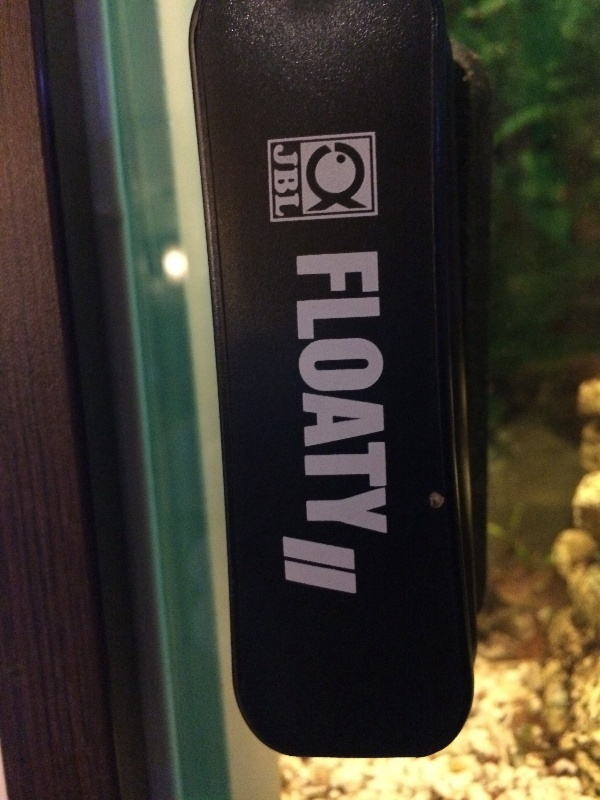text: (305, 250, 320, 538), (321, 250, 336, 538), (337, 250, 352, 538), (353, 250, 368, 538), (369, 250, 384, 538), (296, 250, 304, 538), (385, 250, 391, 538), (273, 138, 288, 224), (289, 138, 302, 224), (289, 538, 304, 600), (305, 538, 320, 600), (321, 538, 336, 600), (337, 538, 352, 600), (281, 538, 288, 600), (353, 538, 359, 600)
